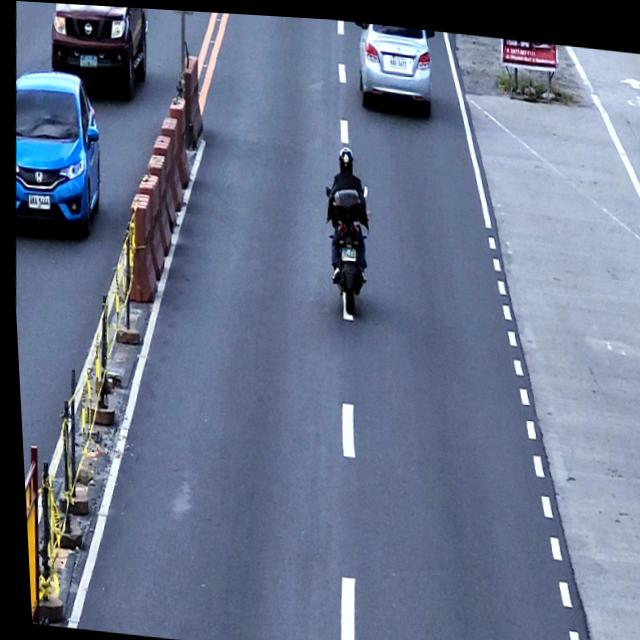Car: (7, 65, 106, 236), (45, 2, 152, 100), (350, 18, 438, 111)
License-Plate: (26, 193, 49, 210), (78, 53, 98, 68), (338, 242, 355, 259), (388, 52, 407, 66)
Motorcycle: (316, 175, 373, 320)
